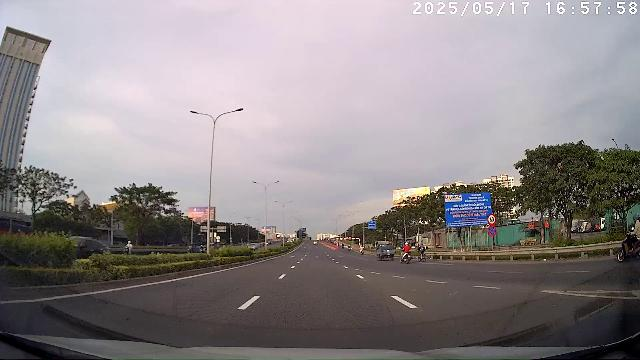127-toc-do-toi-da-60: (487, 214, 497, 225)
